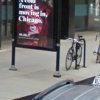Bicycle: (57, 28, 93, 91)
